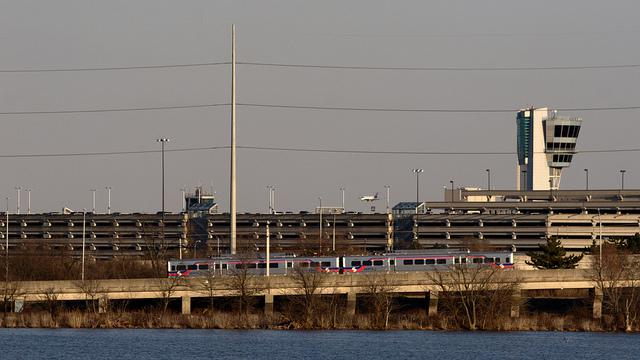Train: (170, 255, 514, 278)
